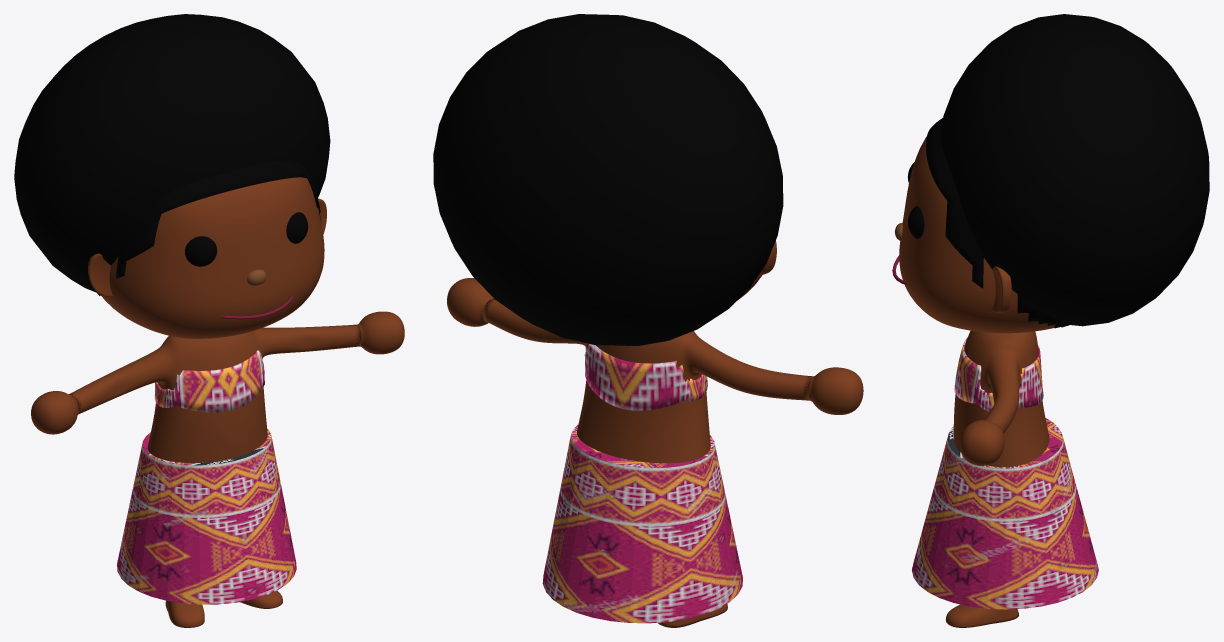
The model's file is Female NPC.fbx.
3 renders of one model, left to right at view 1: azimuth 30°, elevation 25°; view 2: azimuth 150°, elevation 25°; view 3: azimuth 270°, elevation 25°, orthographic. The views are drawn at different scales.
Visible parts, largest first — view 1: Sphere.001, Object_7, Cylinder, Object_2, Object_7.001, Object_2.001, Object_5, Object_6, Sphere, Object_4, Object_8; view 2: Sphere.001, Cylinder, Object_2, Object_2.001, Object_5, Object_6; view 3: Sphere.001, Cylinder, Object_7, Object_2, Object_7.001, Object_2.001, Object_6, Object_4, Object_8, Sphere.
Boxes of the visible parts, x1,y1,x2,y2 form: Sphere.001: (14,14,330,292); Object_7: (101,177,324,338); Cylinder: (117,428,296,604); Object_2: (69,324,361,462); Object_7.001: (96,160,321,295); Object_2.001: (154,350,264,412); Object_5: (31,391,78,434); Object_6: (358,311,404,354); Sphere: (185,212,308,266); Object_4: (165,590,282,627); Object_8: (88,198,326,297); Sphere.001: (433,14,783,345); Cylinder: (542,424,742,623); Object_2: (482,298,812,463); Object_2.001: (584,343,707,410); Object_5: (809,367,863,414); Object_6: (447,278,493,326); Sphere.001: (940,14,1209,326); Cylinder: (912,418,1098,609); Object_7: (899,136,1055,333); Object_2: (953,330,1049,467); Object_7.001: (925,118,1069,328); Object_2.001: (954,337,1043,411); Object_6: (960,420,1004,465); Object_4: (945,604,1018,627); Object_8: (992,266,1011,313); Sphere: (907,162,924,238).
Size of the model in its own units: 2581 by 3673 by 1857.
